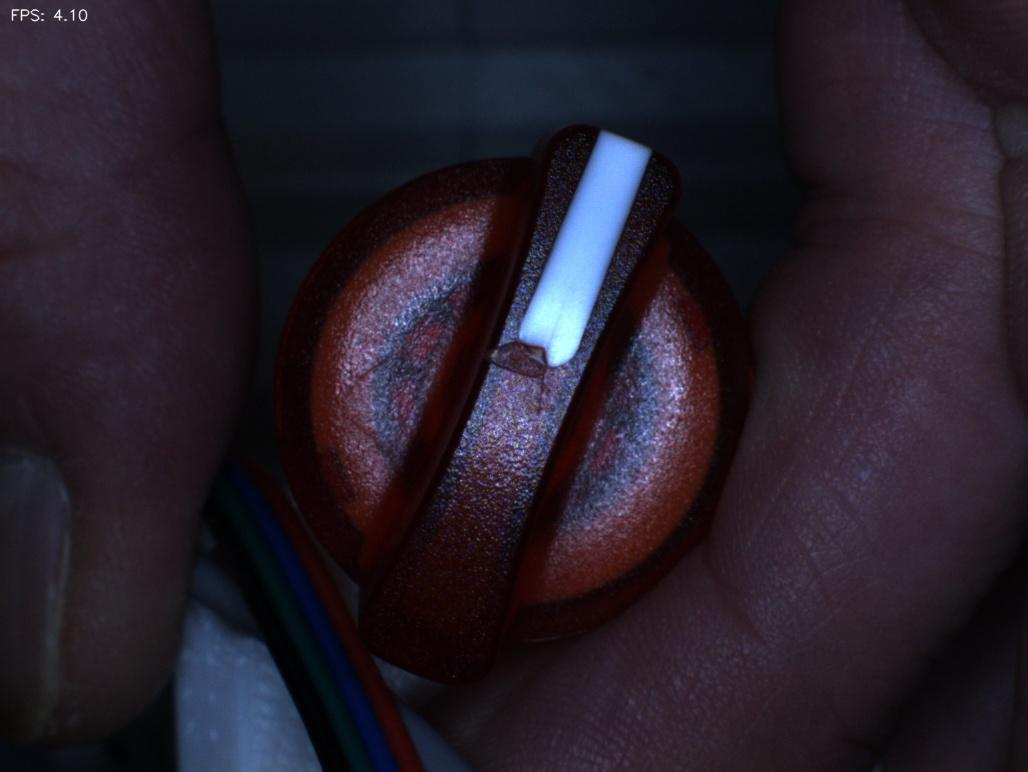Choc: (465, 310, 569, 407)
